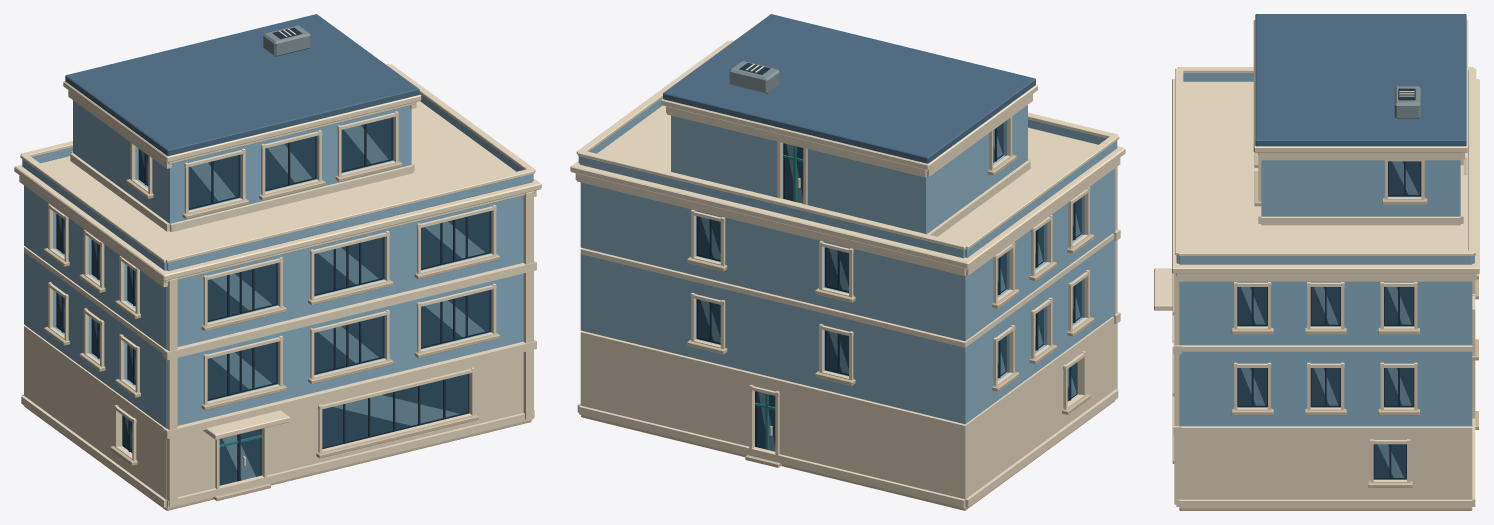
File: stepped_city_office.glb
3 views of the same model, side by side, from view 1: azimuth 30°, elevation 25°; view 2: azimuth 150°, elevation 25°; view 3: azimuth 270°, elevation 25° (orthographic). The views are drawn at different scales.
Visible parts, largest first — view 1: SteppedCityOffice_StaticMesh; view 2: SteppedCityOffice_StaticMesh; view 3: SteppedCityOffice_StaticMesh.
Part boxes in pixels (x1,y1,x2,y2): SteppedCityOffice_StaticMesh: (14,14,541,510); SteppedCityOffice_StaticMesh: (570,14,1125,510); SteppedCityOffice_StaticMesh: (1154,14,1479,510).
Size of the model in its own units: 15.32 by 13.21 by 11.12.
